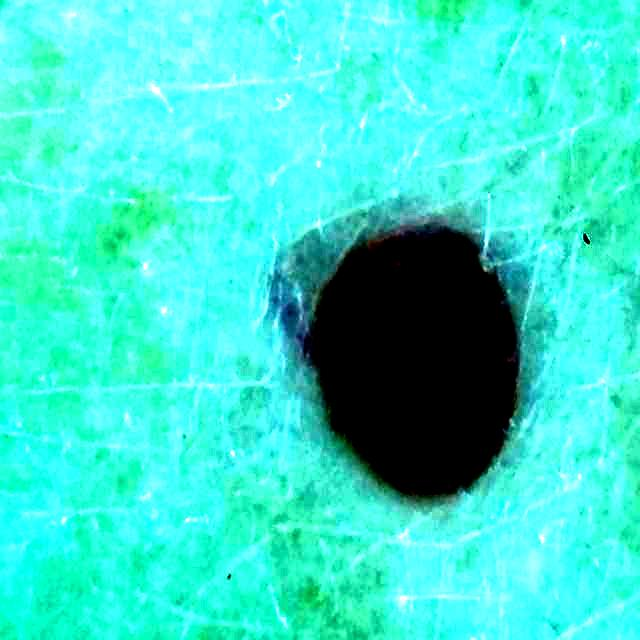VASC: (318, 225, 516, 484)
